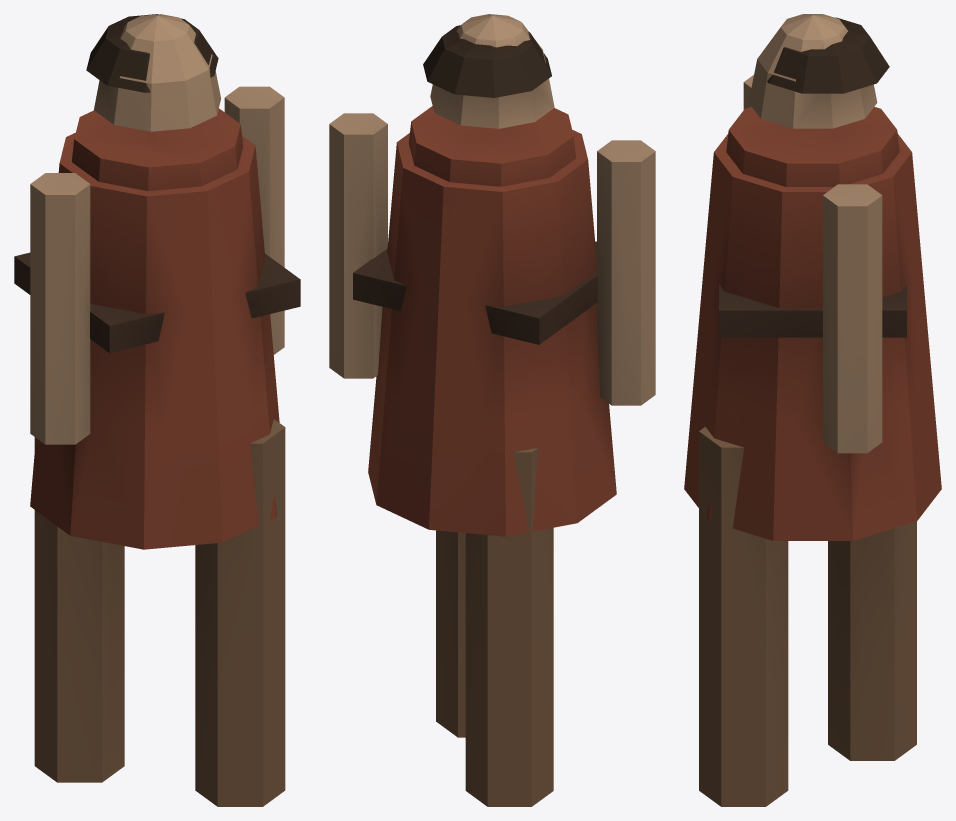
The model's file is walker.glb.
The picture shows the model from 3 angles, left to right: view 1: azimuth 30°, elevation 25°; view 2: azimuth 150°, elevation 25°; view 3: azimuth 270°, elevation 25°; orthographic projection. The views are drawn at different scales.
Visible parts, largest first — view 1: base; view 2: base; view 3: base.
Part boxes in pixels (left/top/right/bottom): base: left=14, top=14, right=300, bottom=806; base: left=329, top=14, right=655, bottom=806; base: left=684, top=14, right=941, bottom=806.
Bounding box in the file's own units: 0.6439 × 1.67 × 0.52.
